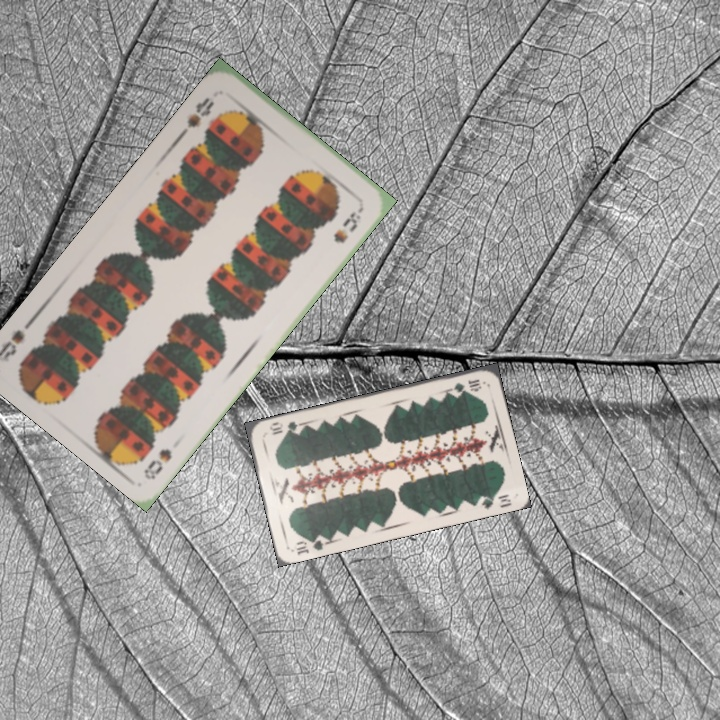G10: (292, 532, 330, 558), (445, 375, 484, 397)
S8: (177, 93, 217, 137), (139, 444, 175, 482)
